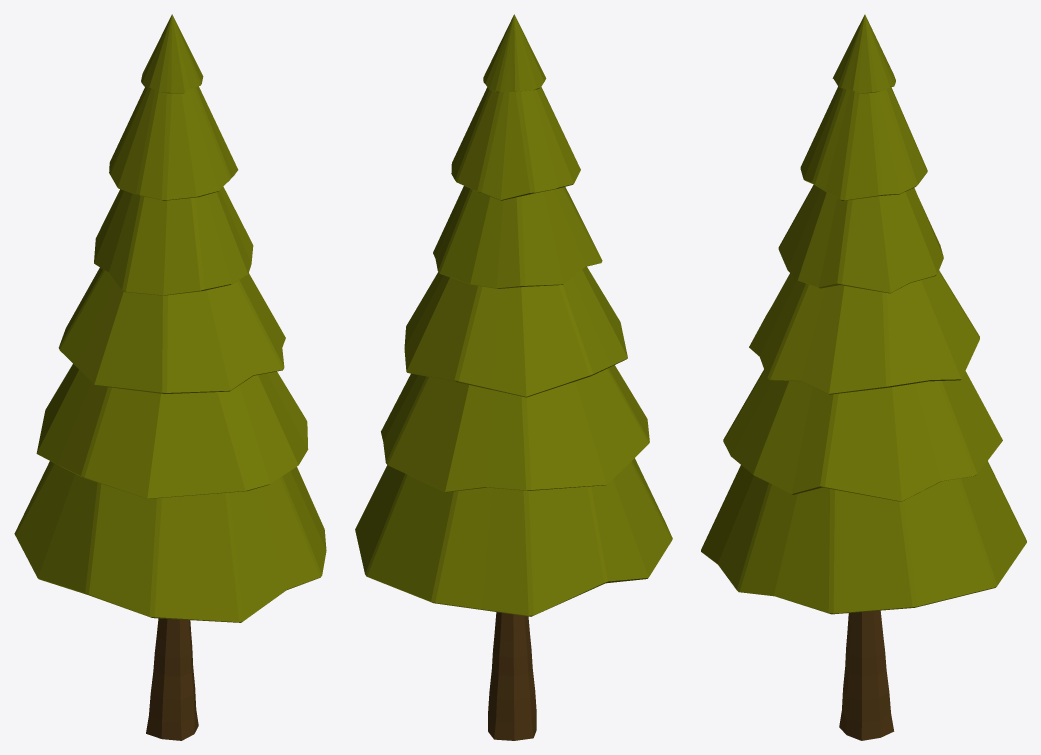
The model's file is pine-tree-2.glb.
3 renders of one model, left to right at view 1: azimuth 30°, elevation 25°; view 2: azimuth 150°, elevation 25°; view 3: azimuth 270°, elevation 25°, orthographic.
Visible parts, largest first — view 1: Pine tree 2; view 2: Pine tree 2; view 3: Pine tree 2.
Boxes of the visible parts, box(x1,y1,x2,y2) form: Pine tree 2: box(14, 14, 326, 740); Pine tree 2: box(355, 14, 672, 740); Pine tree 2: box(701, 14, 1026, 740).
Bounding box in the file's own units: 7.99 × 20.24 × 8.36.
